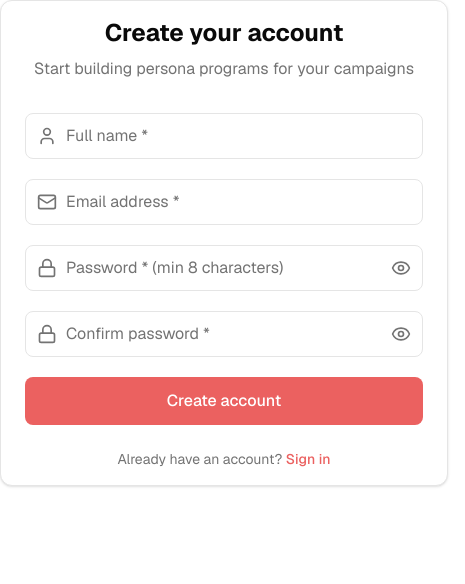
Test: Authentication Flow Integration › Registration Flow › validates password match
Type "John Doe" into the field with placeholder "Full name *" at (224, 136), box [25,113,423,159]
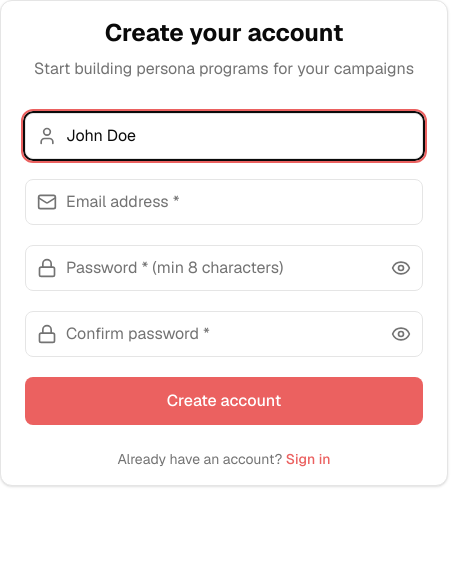
Type "john@example.com" into the field with placeholder "Email address *" at (224, 202), box [25,179,423,225]
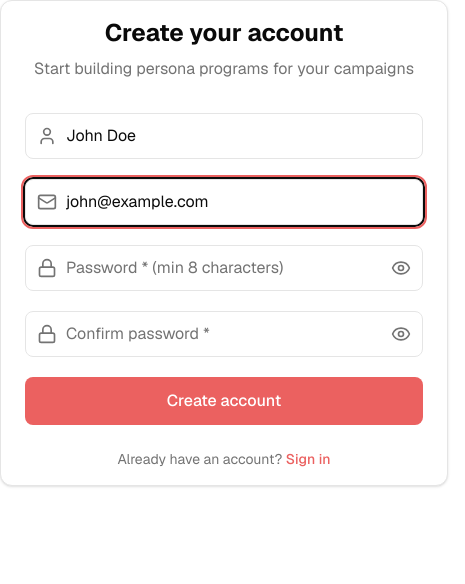
Type "password123" into the password field with placeholder "Password * (min 8 characters)" at (224, 268), box [25,245,423,291]
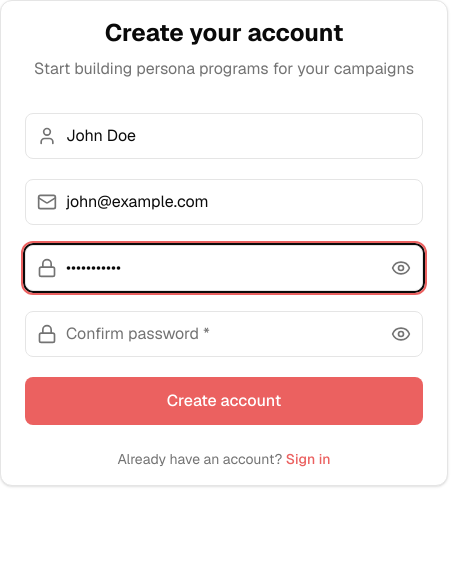
Type "different123" into the password field with placeholder "Confirm password *" at (224, 334), box [25,311,423,357]
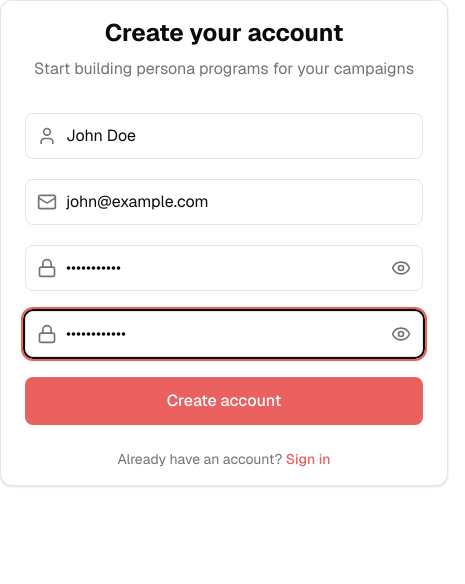
Click the button "Create account" at (224, 401), box [25,377,423,425]
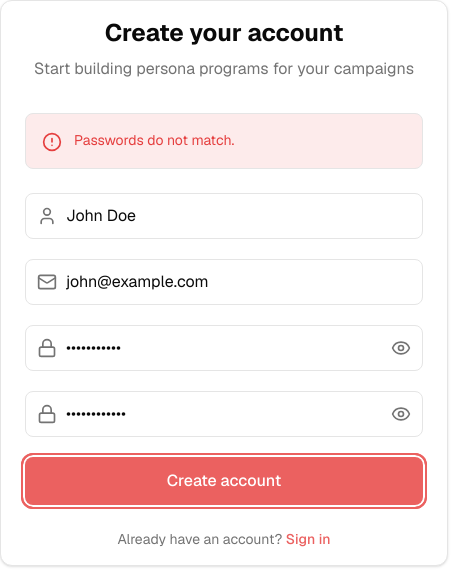
Check: the text "Passwords do not match." is shown, box [74,130,234,150]
